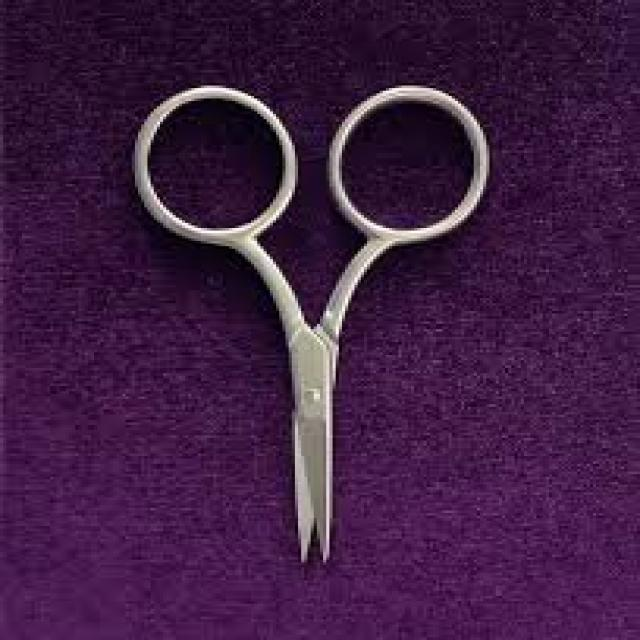scissor: (130, 83, 490, 562)
